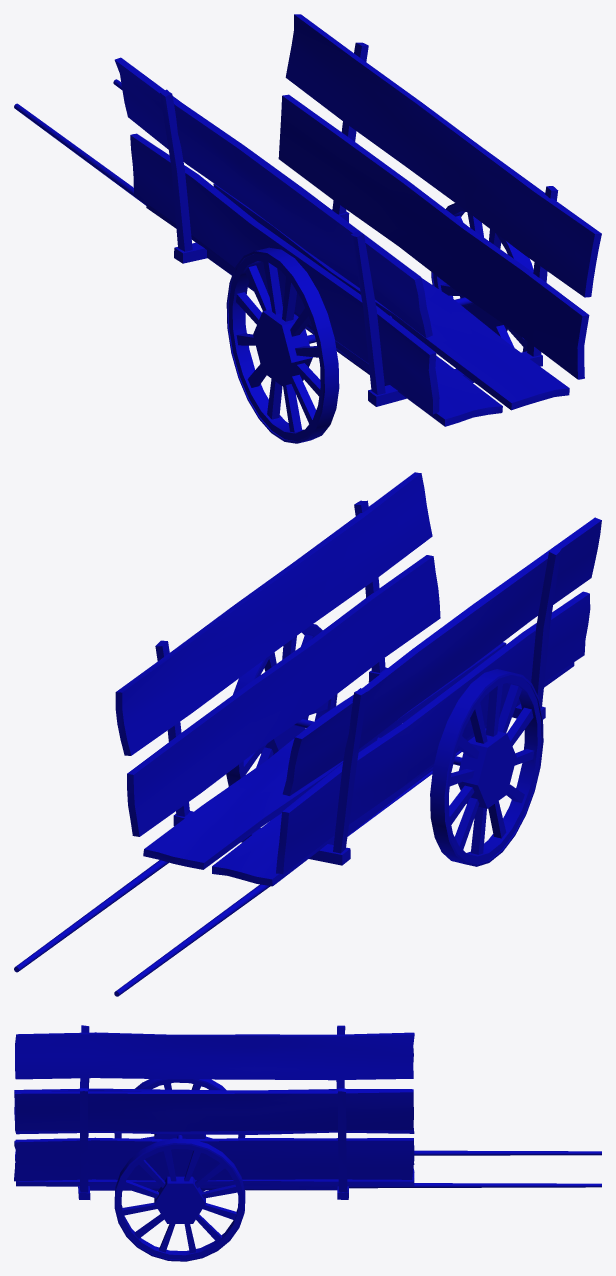
File: charette.fbx
The picture shows the model from 3 angles, top to bottom: view 1: azimuth 30°, elevation 25°; view 2: azimuth 150°, elevation 25°; view 3: azimuth 270°, elevation 25°; orthographic projection. The views are drawn at different scales.
Visible parts, largest first — view 1: charette; view 2: charette; view 3: charette.
Boxes of the visible parts, left/top/right/bottom form: charette: left=14, top=14, right=601, bottom=443; charette: left=14, top=472, right=601, bottom=996; charette: left=14, top=1025, right=601, bottom=1261.
Size of the model in its own units: 6.17 by 6.64 by 20.93.
